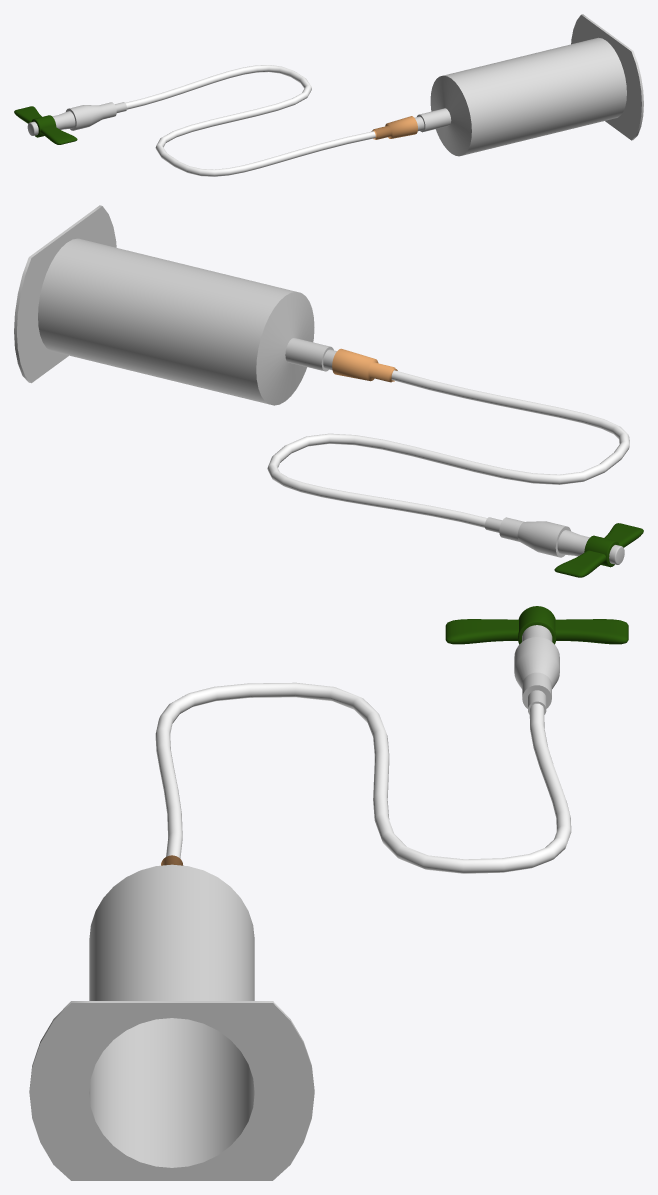
File: spuit.glb
The picture shows the model from 3 angles, top to bottom: view 1: azimuth 30°, elevation 25°; view 2: azimuth 150°, elevation 25°; view 3: azimuth 270°, elevation 25°; orthographic projection. The views are drawn at different scales.
Parts seen in each view (by area): view 1: Circle.005, BezierCurve; view 2: Circle.005, BezierCurve; view 3: Circle.005, BezierCurve.
Part boxes in pixels (x1,y1,x2,y2): Circle.005: (14, 14, 643, 156); BezierCurve: (125, 65, 375, 176); Circle.005: (14, 205, 643, 577); BezierCurve: (267, 370, 629, 527); Circle.005: (29, 606, 628, 1180); BezierCurve: (155, 682, 571, 873).
Size of the model in its own units: 40.73 by 7.13 by 21.73.
